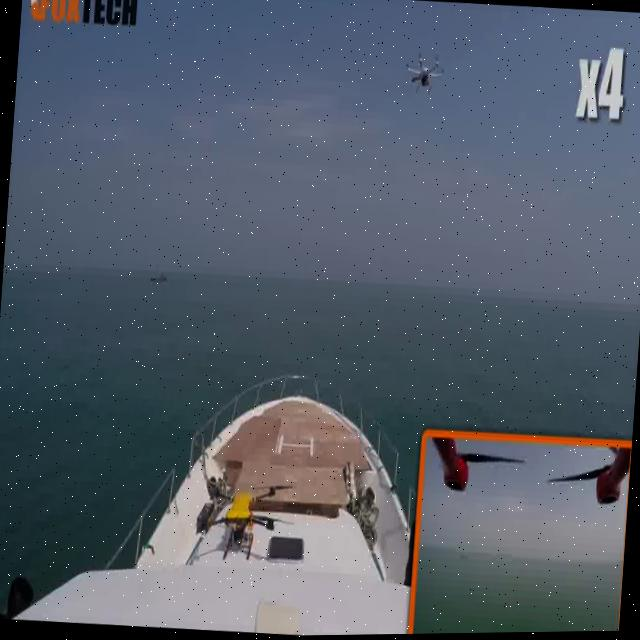drone: (186, 454, 302, 565), (392, 49, 452, 115)
